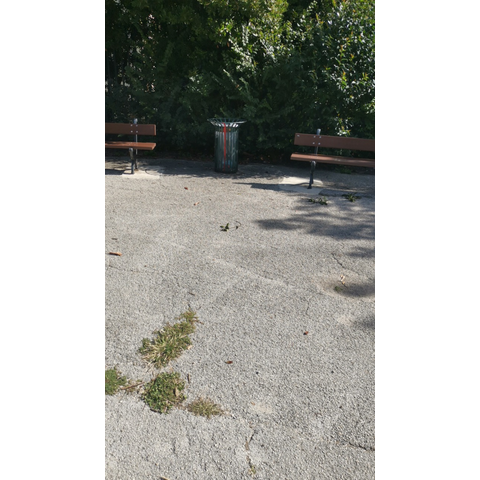poubelle: (201, 111, 252, 179)
